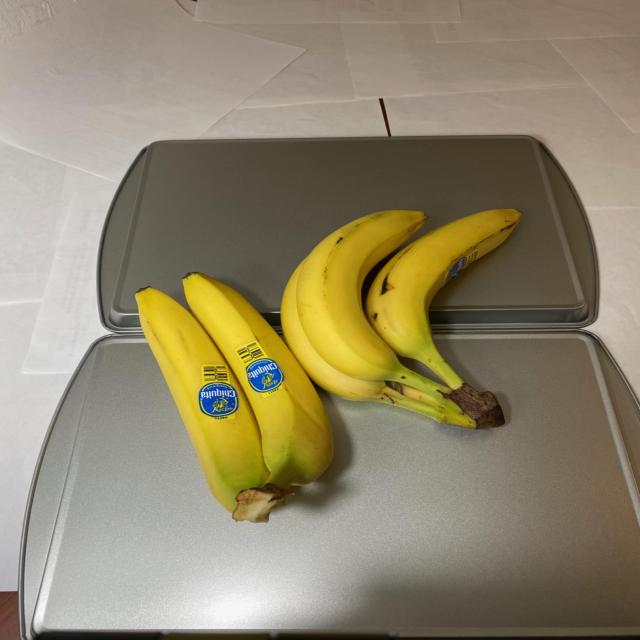banana: (130, 203, 534, 522)
